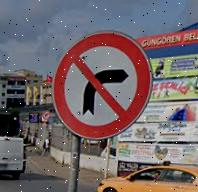rightturnsareforbidden: (57, 33, 151, 141)
